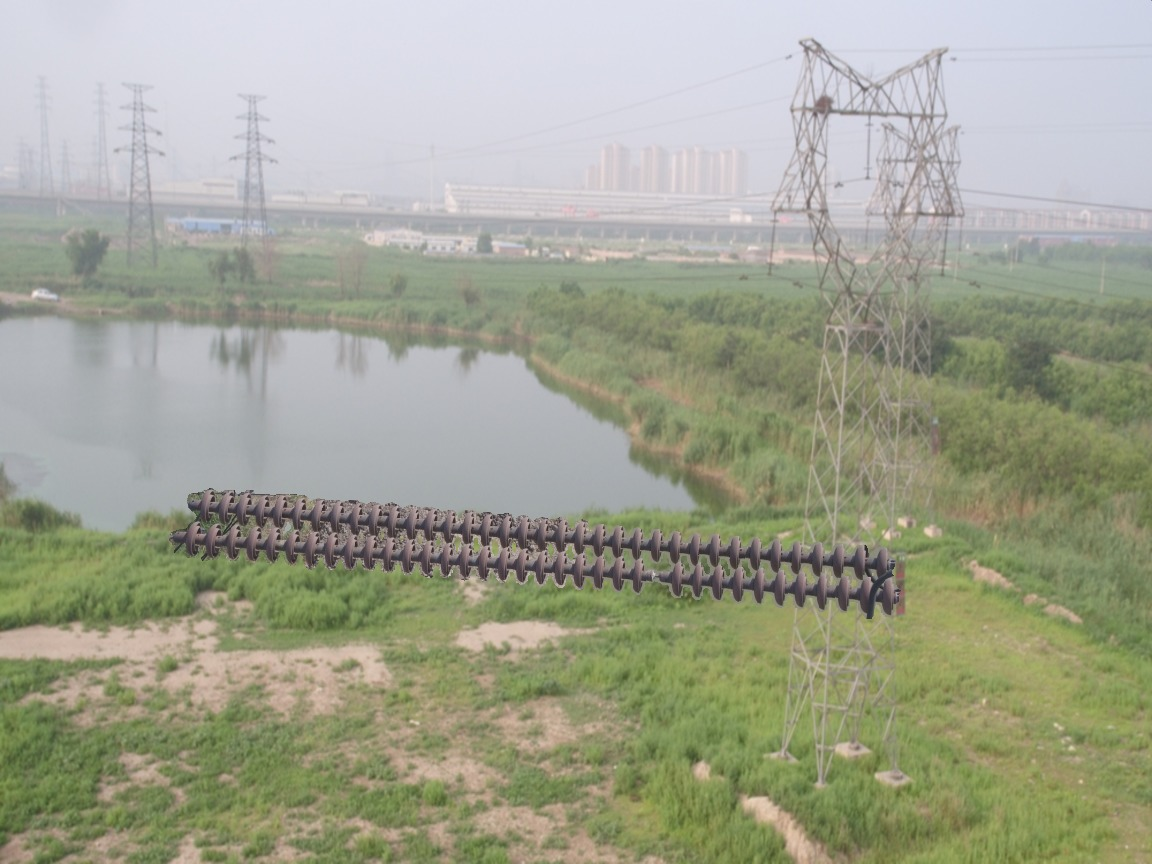defect: (623, 559, 690, 599)
